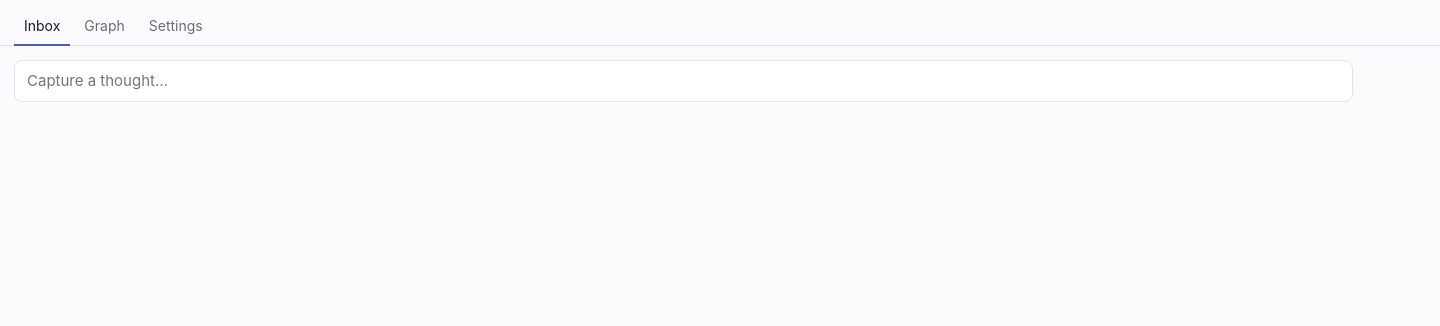
Test case: Settings › shows invalid accelerator errors and leaves login state unchanged on failure
This screenshot has width=1440, height=326.
Click the tab "Settings". click: click(176, 28)
box: [139, 10, 213, 46]
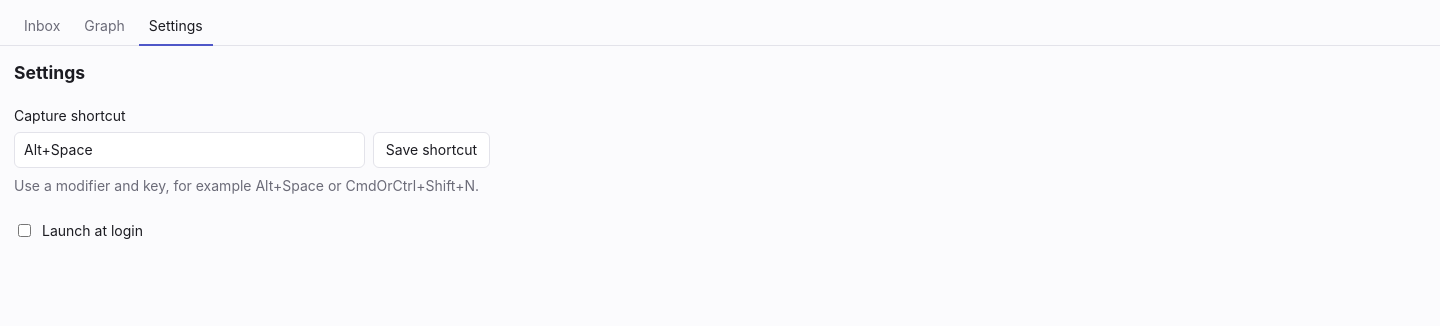
Now the field labelled "Capture shortcut" holds "Alt+Space"
Type "bogus" into the field labelled "Capture shortcut". click: (189, 150)
box: [14, 132, 365, 168]
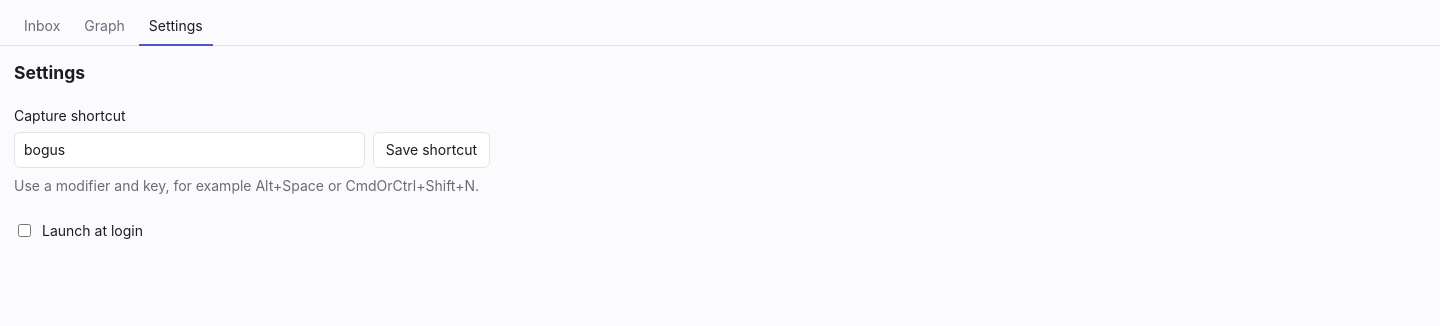
Click the button "Save shortcut". click: click(431, 150)
box: [373, 132, 490, 168]
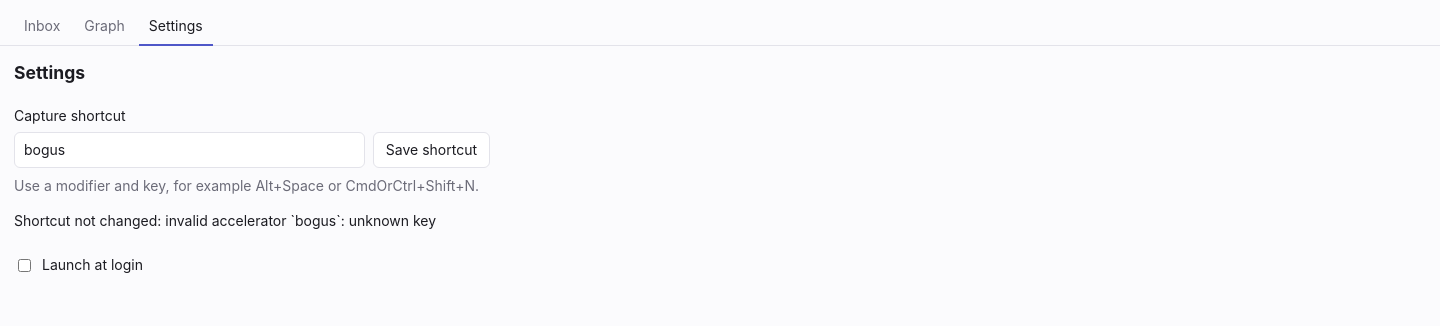
Now the text "Shortcut not changed: invalid accelerator `bogus`: unknown key" is shown, box [14, 211, 490, 231]
Click the checkbox labelled "Launch at login". click: click(24, 265)
box: [18, 258, 31, 272]
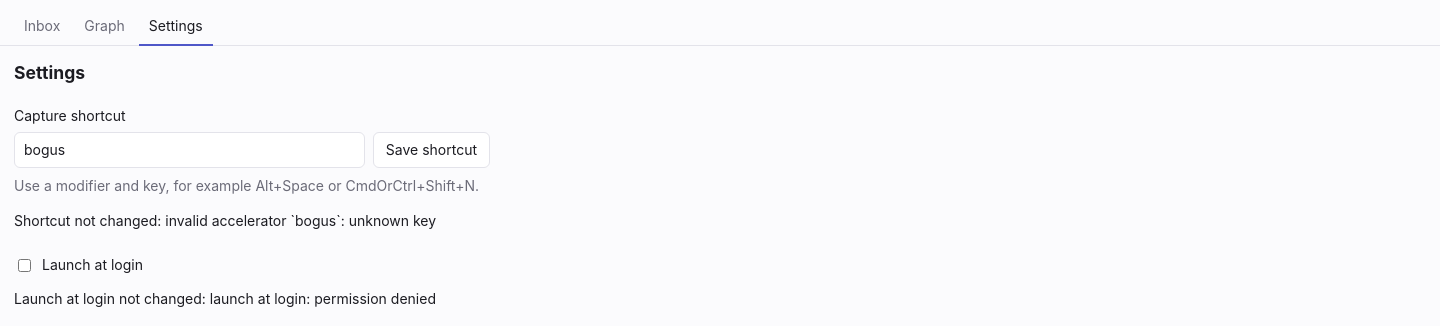
Now the checkbox labelled "Launch at login" is not checked, box [18, 258, 31, 272]
Now the text "Launch at login not changed: launch at login: permission denied" is shown, box [14, 289, 490, 310]
